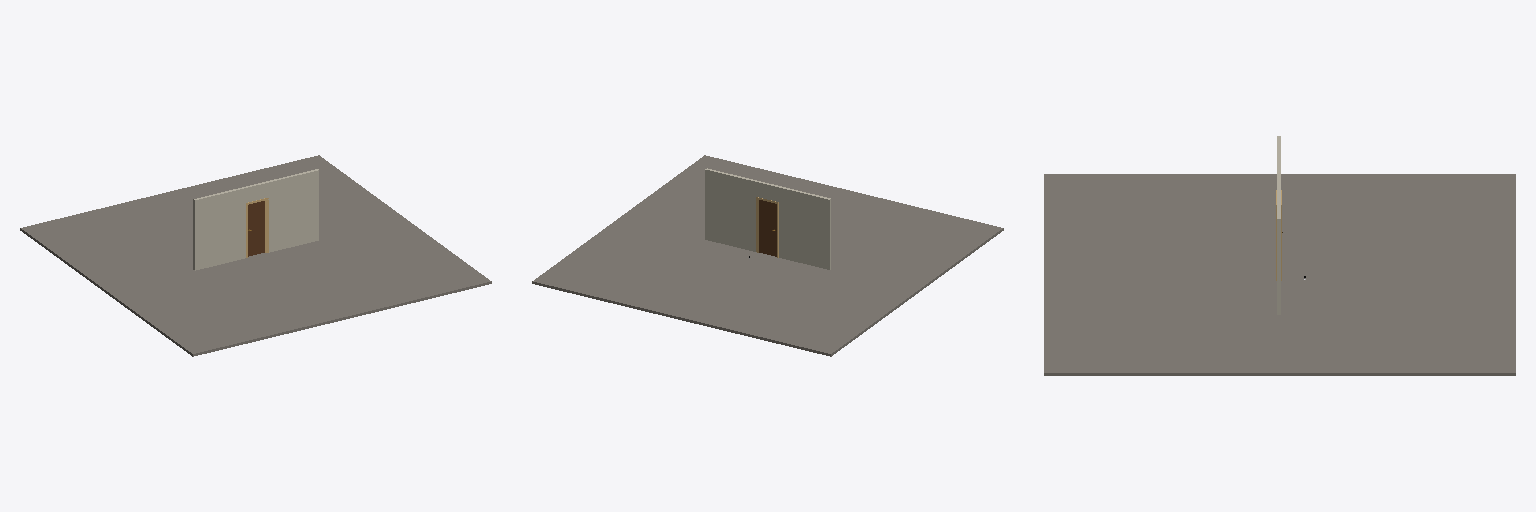
robot.urdf — db0803_swing_single_full:
<?xml version="1.0" ?>
<robot xmlns:doorbench="https://github.com/adamraudonis/DoorBench/schema/urdf-ext" name="db0803_swing_single_full">
  <link name="world_env">
    <visual name="floor_vis">
      <origin xyz="0 0 -0.05" rpy="0 0 0"/>
      <geometry>
        <box size="12 12 0.1"/>
      </geometry>
      <material name="mat_floor"/>
    </visual>
    <collision name="floor_col">
      <origin xyz="0 0 -0.05" rpy="0 0 0"/>
      <geometry>
        <box size="12 12 0.1"/>
      </geometry>
    </collision>
    <visual name="wall_left_vis">
      <origin xyz="-1.45425 -0.0305 1.35" rpy="0 0 0"/>
      <geometry>
        <box size="2.0915 0.115 2.7"/>
      </geometry>
      <material name="mat_wall"/>
    </visual>
    <collision name="wall_left_col">
      <origin xyz="-1.45425 -0.0305 1.35" rpy="0 0 0"/>
      <geometry>
        <box size="2.0915 0.115 2.7"/>
      </geometry>
    </collision>
    <visual name="wall_right_vis">
      <origin xyz="1.43925 -0.0305 1.35" rpy="0 0 0"/>
      <geometry>
        <box size="2.1215 0.115 2.7"/>
      </geometry>
      <material name="mat_wall"/>
    </visual>
    <collision name="wall_right_col">
      <origin xyz="1.43925 -0.0305 1.35" rpy="0 0 0"/>
      <geometry>
        <box size="2.1215 0.115 2.7"/>
      </geometry>
    </collision>
    <visual name="wall_header_vis">
      <origin xyz="-0.015 -0.0305 2.397" rpy="0 0 0"/>
      <geometry>
        <box size="0.787 0.115 0.606"/>
      </geometry>
      <material name="mat_wall"/>
    </visual>
    <collision name="wall_header_col">
      <origin xyz="-0.015 -0.0305 2.397" rpy="0 0 0"/>
      <geometry>
        <box size="0.787 0.115 0.606"/>
      </geometry>
    </collision>
    <visual name="hinge_0_jamb_vis">
      <origin xyz="0.3565 0.027 0.259" rpy="0 0 3.141593"/>
      <geometry>
        <mesh filename="../../hardware/hinge_jamb_50e97ebc96.obj"/>
      </geometry>
      <material name="mat_hinge"/>
    </visual>
    <visual name="hinge_1_jamb_vis">
      <origin xyz="0.3565 0.027 1.025" rpy="0 0 3.141593"/>
      <geometry>
        <mesh filename="../../hardware/hinge_jamb_50e97ebc96.obj"/>
      </geometry>
      <material name="mat_hinge"/>
    </visual>
    <visual name="hinge_2_jamb_vis">
      <origin xyz="0.3565 0.027 1.861" rpy="0 0 3.141593"/>
      <geometry>
        <mesh filename="../../hardware/hinge_jamb_50e97ebc96.obj"/>
      </geometry>
      <material name="mat_hinge"/>
    </visual>
    <visual name="jamb_hinge_vis">
      <origin xyz="0.369 -0.0305 1.0225" rpy="0 0 0"/>
      <geometry>
        <box size="0.019 0.115 2.045"/>
      </geometry>
      <material name="mat_frame"/>
    </visual>
    <collision name="jamb_hinge_col">
      <origin xyz="0.369 -0.0305 1.0225" rpy="0 0 0"/>
      <geometry>
        <box size="0.019 0.115 2.045"/>
      </geometry>
    </collision>
    <visual name="strike_1016_wall_n_vis">
      <origin xyz="-0.384 -0.047925 1.016" rpy="0 0 0"/>
      <geometry>
        <box size="0.049 0.08015 0.0334"/>
      </geometry>
      <material name="mat_frame"/>
    </visual>
    <collision name="strike_1016_wall_n_col">
      <origin xyz="-0.384 -0.047925 1.016" rpy="0 0 0"/>
      <geometry>
        <box size="0.049 0.08015 0.0334"/>
      </geometry>
    </collision>
    <visual name="strike_1016_wall_p_vis">
      <origin xyz="-0.384 0.01585 1.016" rpy="0 0 0"/>
      <geometry>
        <box size="0.049 0.016 0.0334"/>
      </geometry>
      <material name="mat_frame"/>
    </visual>
    <collision name="strike_1016_wall_p_col">
      <origin xyz="-0.384 0.01585 1.016" rpy="0 0 0"/>
      <geometry>
        <box size="0.049 0.016 0.0334"/>
      </geometry>
    </collision>
    <visual name="strike_1016_ramp_vis">
      <origin xyz="-0.388636 0.028673 1.016" rpy="0 0 0.428384"/>
      <geometry>
        <box size="0.049 0.03298 0.0334"/>
      </geometry>
      <material name="mat_frame"/>
    </visual>
    <collision name="strike_1016_ramp_col">
      <origin xyz="-0.388636 0.028673 1.016" rpy="0 0 0.428384"/>
      <geometry>
        <box size="0.049 0.03298 0.0334"/>
      </geometry>
    </collision>
    <visual name="strike_1016_back_vis">
      <origin xyz="-0.39235 0 1.016" rpy="0 0 0"/>
      <geometry>
        <box size="0.0323 0.0157 0.0334"/>
      </geometry>
      <material name="mat_frame"/>
    </visual>
    <collision name="strike_1016_back_col">
      <origin xyz="-0.39235 0 1.016" rpy="0 0 0"/>
      <geometry>
        <box size="0.0323 0.0157 0.0334"/>
      </geometry>
    </collision>
    <visual name="jamb_strike_0_vis">
      <origin xyz="-0.384 -0.0305 0.49965" rpy="0 0 0"/>
      <geometry>
        <box size="0.049 0.115 0.9993"/>
      </geometry>
      <material name="mat_frame"/>
    </visual>
    <collision name="jamb_strike_0_col">
      <origin xyz="-0.384 -0.0305 0.49965" rpy="0 0 0"/>
      <geometry>
        <box size="0.049 0.115 0.9993"/>
      </geometry>
    </collision>
    <visual name="jamb_strike_1_vis">
      <origin xyz="-0.384 -0.0305 1.53885" rpy="0 0 0"/>
      <geometry>
        <box size="0.049 0.115 1.0123"/>
      </geometry>
      <material name="mat_frame"/>
    </visual>
    <collision name="jamb_strike_1_col">
      <origin xyz="-0.384 -0.0305 1.53885" rpy="0 0 0"/>
      <geometry>
        <box size="0.049 0.115 1.0123"/>
      </geometry>
    </collision>
    <visual name="jamb_head_vis">
      <origin xyz="-0.015 -0.0305 2.0545" rpy="0 0 0"/>
      <geometry>
        <box size="0.787 0.115 0.019"/>
      </geometry>
      <material name="mat_frame"/>
    </visual>
    <collision name="jamb_head_col">
      <origin xyz="-0.015 -0.0305 2.0545" rpy="0 0 0"/>
      <geometry>
        <box size="0.787 0.115 0.019"/>
      </geometry>
    </collision>
    <visual name="head_stud_vis">
      <origin xyz="-0.015 -0.0305 2.079" rpy="0 0 0"/>
      <geometry>
        <box size="0.787 0.115 0.03"/>
      </geometry>
      <material name="mat_wall"/>
    </visual>
    <collision name="head_stud_col">
      <origin xyz="-0.015 -0.0305 2.079" rpy="0 0 0"/>
      <geometry>
        <box size="0.787 0.115 0.03"/>
      </geometry>
    </collision>
    <visual name="stop_hinge_vis">
      <origin xyz="0.354 -0.0365 1.0225" rpy="0 0 0"/>
      <geometry>
        <box size="0.011 0.032 2.045"/>
      </geometry>
      <material name="mat_frame"/>
    </visual>
    <collision name="stop_hinge_col">
      <origin xyz="0.354 -0.0365 1.0225" rpy="0 0 0"/>
      <geometry>
        <box size="0.011 0.032 2.045"/>
      </geometry>
    </collision>
    <visual name="stop_strike_vis">
      <origin xyz="-0.354 -0.0365 1.0225" rpy="0 0 0"/>
      <geometry>
        <box size="0.011 0.032 2.045"/>
      </geometry>
      <material name="mat_frame"/>
    </visual>
    <collision name="stop_strike_col">
      <origin xyz="-0.354 -0.0365 1.0225" rpy="0 0 0"/>
      <geometry>
        <box size="0.011 0.032 2.045"/>
      </geometry>
    </collision>
    <visual name="stop_head_vis">
      <origin xyz="0 -0.0365 2.0395" rpy="0 0 0"/>
      <geometry>
        <box size="0.719 0.032 0.011"/>
      </geometry>
      <material name="mat_frame"/>
    </visual>
    <collision name="stop_head_col">
      <origin xyz="0 -0.0365 2.0395" rpy="0 0 0"/>
      <geometry>
        <box size="0.719 0.032 0.011"/>
      </geometry>
    </collision>
    <visual name="seal_hinge_vis">
      <origin xyz="0.3565 -0.0215 1.0225" rpy="0 0 0"/>
      <geometry>
        <box size="0.008 0.003 2.045"/>
      </geometry>
      <material name="mat_seal"/>
    </visual>
    <visual name="seal_strike_vis">
      <origin xyz="-0.3565 -0.0215 1.0225" rpy="0 0 0"/>
      <geometry>
        <box size="0.008 0.003 2.045"/>
      </geometry>
      <material name="mat_seal"/>
    </visual>
    <visual name="seal_head_vis">
      <origin xyz="0 -0.0215 2.033" rpy="0 0 0"/>
      <geometry>
        <box size="0.679 0.003 0.016"/>
      </geometry>
      <material name="mat_seal"/>
    </visual>
    <visual name="casing_l_n_vis">
      <origin xyz="-0.4085 -0.096 1.0225" rpy="0 0 0"/>
      <geometry>
        <box size="0.07 0.016 2.064"/>
      </geometry>
      <material name="mat_frame"/>
    </visual>
    <visual name="casing_r_n_vis">
      <origin xyz="0.4085 -0.096 1.0225" rpy="0 0 0"/>
      <geometry>
        <box size="0.07 0.016 2.064"/>
      </geometry>
      <material name="mat_frame"/>
    </visual>
    <visual name="casing_h_n_vis">
      <origin xyz="0 -0.096 2.094" rpy="0 0 0"/>
      <geometry>
        <box size="0.887 0.016 0.07"/>
      </geometry>
      <material name="mat_frame"/>
    </visual>
    <visual name="casing_l_p_vis">
      <origin xyz="-0.4085 0.035 1.0225" rpy="0 0 0"/>
      <geometry>
        <box size="0.07 0.016 2.064"/>
      </geometry>
      <material name="mat_frame"/>
    </visual>
    <visual name="casing_r_p_vis">
      <origin xyz="0.4085 0.035 1.0225" rpy="0 0 0"/>
      <geometry>
        <box size="0.07 0.016 2.064"/>
      </geometry>
      <material name="mat_frame"/>
    </visual>
    <visual name="casing_h_p_vis">
      <origin xyz="0 0.035 2.094" rpy="0 0 0"/>
      <geometry>
        <box size="0.887 0.016 0.07"/>
      </geometry>
      <material name="mat_frame"/>
    </visual>
    <visual name="door_stop_base_vis">
      <origin xyz="0.3725 0.63135 0.003" rpy="0 0 0"/>
      <geometry>
        <cylinder radius="0.022" length="0.006"/>
      </geometry>
      <material name="mat_stop_base"/>
    </visual>
    <collision name="door_stop_base_col">
      <origin xyz="0.3725 0.63135 0.003" rpy="0 0 0"/>
      <geometry>
        <cylinder radius="0.022" length="0.006"/>
      </geometry>
    </collision>
    <visual name="door_stop_post_vis">
      <origin xyz="0.3725 0.63135 0.0305" rpy="0 0 0"/>
      <geometry>
        <cylinder radius="0.012" length="0.049"/>
      </geometry>
      <material name="mat_stop_base"/>
    </visual>
    <collision name="door_stop_post_col">
      <origin xyz="0.3725 0.63135 0.0305" rpy="0 0 0"/>
      <geometry>
        <cylinder radius="0.012" length="0.049"/>
      </geometry>
    </collision>
    <visual name="door_stop_bumper_vis">
      <origin xyz="0.3725 0.63135 0.075" rpy="0 0 0"/>
      <geometry>
        <cylinder radius="0.022" length="0.04"/>
      </geometry>
      <material name="mat_bumper_stop"/>
    </visual>
    <collision name="door_stop_bumper_col">
      <origin xyz="0.3725 0.63135 0.075" rpy="0 0 0"/>
      <geometry>
        <cylinder radius="0.022" length="0.04"/>
      </geometry>
    </collision>
  </link>
  <link name="leaf">
    <inertial>
      <origin xyz="-0.351741 -0.026745 1.025253" rpy="0 0 0"/>
      <mass value="30.443856"/>
      <inertia ixx="10.503448005" ixy="-0.002728152" ixz="-0.002799253" iyy="11.8108165" iyz="-0.000178883" izz="1.31577989"/>
    </inertial>
    <visual name="leaf_slab_vis">
      <origin xyz="-0.3555 -0.027 1.025" rpy="0 0 0"/>
      <geometry>
        <box size="0.711 0.04 2.032"/>
      </geometry>
      <material name="mat_leaf"/>
    </visual>
    <collision name="leaf_slab_col">
      <origin xyz="-0.3555 -0.027 1.025" rpy="0 0 0"/>
      <geometry>
        <box size="0.711 0.04 2.032"/>
      </geometry>
    </collision>
    <visual name="hinge_0_vis">
      <origin xyz="0 0 0.259" rpy="0 0 3.141593"/>
      <geometry>
        <mesh filename="../../hardware/hinge_9ae1f9b7de.obj"/>
      </geometry>
      <material name="mat_hinge"/>
    </visual>
    <visual name="hinge_1_vis">
      <origin xyz="0 0 1.025" rpy="0 0 3.141593"/>
      <geometry>
        <mesh filename="../../hardware/hinge_9ae1f9b7de.obj"/>
      </geometry>
      <material name="mat_hinge"/>
    </visual>
    <visual name="hinge_2_vis">
      <origin xyz="0 0 1.861" rpy="0 0 3.141593"/>
      <geometry>
        <mesh filename="../../hardware/hinge_9ae1f9b7de.obj"/>
      </geometry>
      <material name="mat_hinge"/>
    </visual>
    <visual name="leaf_latch_bolt_faceplate_vis">
      <origin xyz="-0.7104 -0.027 1.016" rpy="0 0 0"/>
      <geometry>
        <box size="0.0012 0.0247 0.0534"/>
      </geometry>
      <material name="mat_bolt"/>
    </visual>
  </link>
  <link name="leaf_handle">
    <inertial>
      <origin xyz="0.028414 0.000699 0" rpy="0 0 0"/>
      <mass value="0.982665"/>
      <inertia ixx="0.003451062" ixy="0.000019508" ixz="0" iyy="0.00177576" iyz="0" izz="0.005048539"/>
    </inertial>
    <visual name="leaf_handle_spindle_vis">
      <origin xyz="0 0 0" rpy="-1.570796 0 0"/>
      <geometry>
        <cylinder radius="0.006" length="0.056"/>
      </geometry>
      <material name="mat_op_brass_antique"/>
    </visual>
    <visual name="leaf_handle_lever_n_vis">
      <origin xyz="0 -0.02 0" rpy="-1.570796 0 3.141593"/>
      <geometry>
        <mesh filename="../../hardware/lever_9f02b544cf.obj"/>
      </geometry>
      <material name="mat_op_brass_antique"/>
    </visual>
    <collision name="leaf_handle_lever_col_n_col">
      <origin xyz="0.0625 -0.075 0" rpy="0 1.570796 0"/>
      <geometry>
        <cylinder radius="0.0095" length="0.106"/>
      </geometry>
    </collision>
    <collision name="leaf_handle_hub_col_n_col">
      <origin xyz="0 -0.05 0" rpy="-1.570796 0 0"/>
      <geometry>
        <cylinder radius="0.012" length="0.044"/>
      </geometry>
    </collision>
    <visual name="leaf_handle_lever_p_vis">
      <origin xyz="0 0.02 0" rpy="1.570796 0 3.141593"/>
      <geometry>
        <mesh filename="../../hardware/lever_9f02b544cf.obj"/>
      </geometry>
      <material name="mat_op_brass_antique"/>
    </visual>
    <collision name="leaf_handle_lever_col_p_col">
      <origin xyz="0.0625 0.075 0" rpy="0 1.570796 0"/>
      <geometry>
        <cylinder radius="0.0095" length="0.106"/>
      </geometry>
    </collision>
    <collision name="leaf_handle_hub_col_p_col">
      <origin xyz="0 0.05 0" rpy="-1.570796 0 0"/>
      <geometry>
        <cylinder radius="0.012" length="0.044"/>
      </geometry>
    </collision>
    <visual name="leaf_handle_turn_button_p_vis">
      <origin xyz="0 0.0855 0" rpy="-1.570796 0 0"/>
      <geometry>
        <cylinder radius="0.006" length="0.01"/>
      </geometry>
      <material name="mat_trim"/>
    </visual>
  </link>
  <link name="leaf_latch_bolt">
    <inertial>
      <origin xyz="0.00865 0 0" rpy="0 0 0"/>
      <mass value="0.041419"/>
      <inertia ixx="0.000000798" ixy="0" ixz="0" iyy="0.000005598" iyz="0" izz="0.000005598"/>
    </inertial>
    <visual name="leaf_latch_bolt_capsule_vis">
      <origin xyz="0.00865 0 0" rpy="0 -1.570796 0"/>
      <geometry>
        <cylinder radius="0.00635" length="0.03"/>
      </geometry>
      <material name="mat_bolt"/>
    </visual>
    <collision name="leaf_latch_bolt_capsule_col">
      <origin xyz="0.00865 0 0" rpy="0 -1.570796 0"/>
      <geometry>
        <cylinder radius="0.00635" length="0.03"/>
      </geometry>
    </collision>
  </link>
  <joint name="leaf_hinge" type="revolute">
    <origin xyz="0.3565 0.027 0" rpy="0 0 0"/>
    <parent link="world_env"/>
    <child link="leaf"/>
    <axis xyz="0 0 -1"/>
    <limit lower="0" upper="1.570796" effort="2000" velocity="10"/>
    <dynamics damping="0.143782" friction="0.711212"/>
    <doorbench:closer damping_closing="0" damping_opening="0" backcheck_angle="0" backcheck_damping="0"/>
  </joint>
  <joint name="leaf_handle_hinge" type="revolute">
    <origin xyz="-0.651 -0.027 1.016" rpy="0 0 0"/>
    <parent link="leaf"/>
    <child link="leaf_handle"/>
    <axis xyz="0 1 0"/>
    <limit lower="0" upper="0.96" effort="2000" velocity="10"/>
    <dynamics damping="0.200552" friction="0.046"/>
    <doorbench:spring stiffness="0.8" springref="-0.577217" note="tau = -stiffness*(q - springref); not native URDF"/>
  </joint>
  <joint name="leaf_latch_bolt_slide" type="prismatic">
    <origin xyz="-0.711 -0.027 1.016" rpy="0 0 0"/>
    <parent link="leaf"/>
    <child link="leaf_latch_bolt"/>
    <axis xyz="1 0 0"/>
    <limit lower="0" upper="0.0127" effort="5000" velocity="10"/>
    <dynamics damping="2" friction="0.3"/>
    <doorbench:spring stiffness="300" springref="-0.008333" note="tau = -stiffness*(q - springref); not native URDF"/>
    <mimic joint="leaf_handle_hinge" multiplier="0.016711" offset="0"/>
    <doorbench:coupling one_sided="true" note="MJCF uses a one-sided tendon (bolt may retract further, e.g. riding over the strike lip); mimic is bilateral"/>
  </joint>
  <material name="mat_bolt">
    <color rgba="0.85 0.66 0.3 1"/>
  </material>
  <material name="mat_bumper_stop">
    <color rgba="0.08 0.08 0.08 1"/>
  </material>
  <material name="mat_floor">
    <color rgba="0.55 0.53 0.5 1"/>
  </material>
  <material name="mat_frame">
    <color rgba="0.82 0.7 0.5 1"/>
  </material>
  <material name="mat_hinge">
    <color rgba="0.65 0.66 0.68 1"/>
  </material>
  <material name="mat_leaf">
    <color rgba="0.427 0.297 0.194 1"/>
  </material>
  <material name="mat_op_brass_antique">
    <color rgba="0.55 0.42 0.22 1"/>
  </material>
  <material name="mat_seal">
    <color rgba="0.1 0.1 0.1 1"/>
  </material>
  <material name="mat_stop_base">
    <color rgba="0.9 0.9 0.92 1"/>
  </material>
  <material name="mat_trim">
    <color rgba="0.85 0.66 0.3 1"/>
  </material>
  <material name="mat_wall">
    <color rgba="0.78 0.76 0.7 1"/>
  </material>
</robot>

--- Render facts (derived) ---
3 views of the same robot in one strip: view 1: azimuth 30°, elevation 25°; view 2: azimuth 150°, elevation 25°; view 3: azimuth 270°, elevation 25° (orthographic).
Robot: db0803_swing_single_full — 4 links, 3 joints (2 revolute, 1 prismatic); root link world_env; default pose: every joint at zero.
Links seen in each view (by area): view 1: world_env, leaf; view 2: world_env, leaf; view 3: world_env.
Link boxes in pixels (x1,y1,x2,y2): world_env: (20,155,491,356); leaf: (248,201,264,256); world_env: (532,155,1003,356); leaf: (759,200,776,256); world_env: (1044,136,1515,375).
Size in the robot's own frame: 12 by 12 by 2.8 metres.
8 mesh visuals loaded from 3 distinct referenced files (3 OBJ).
